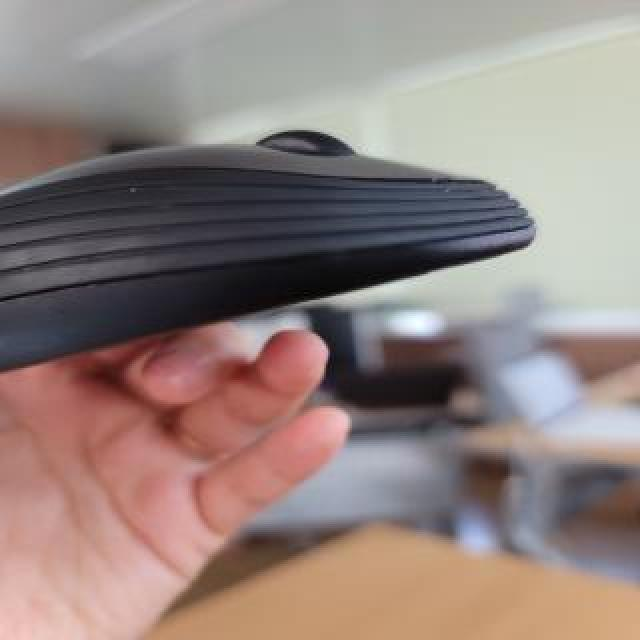mouse: (0, 105, 547, 352)
